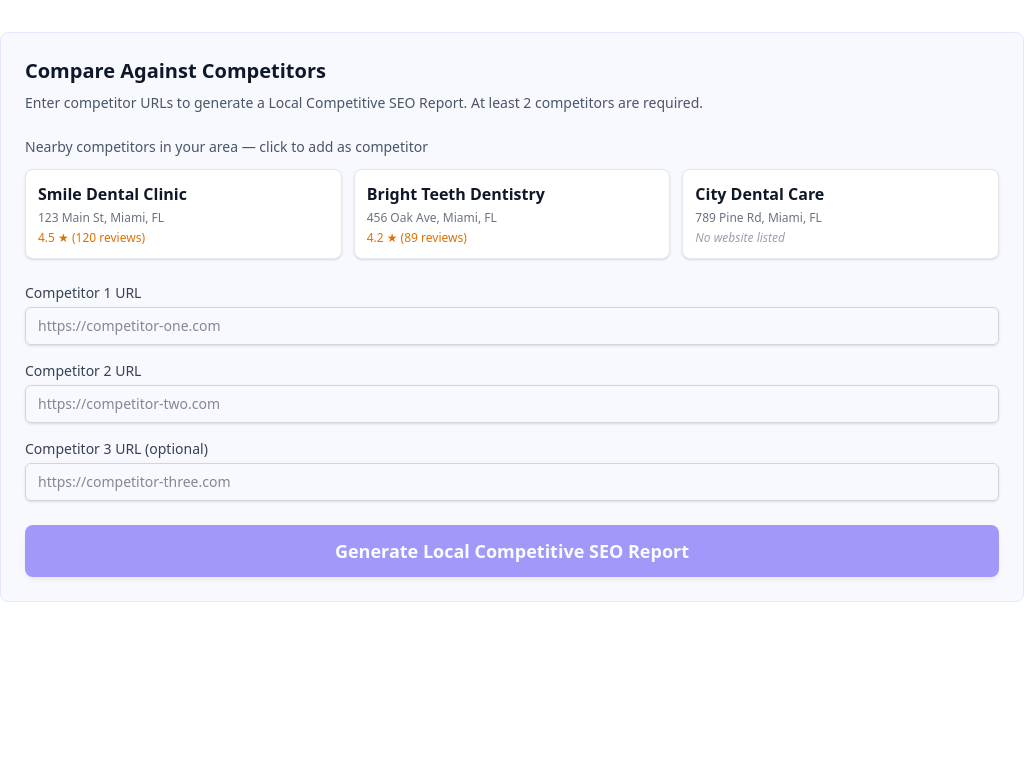
Click Suggestion to Fill URL (CHG-012) › shows "no website" message when clicking a suggestion without website_url
# Click on "City Dental Care" which has no website_url
Step 1. Click the button "City Dental Care" → click(760, 194), box [682,169,999,259]
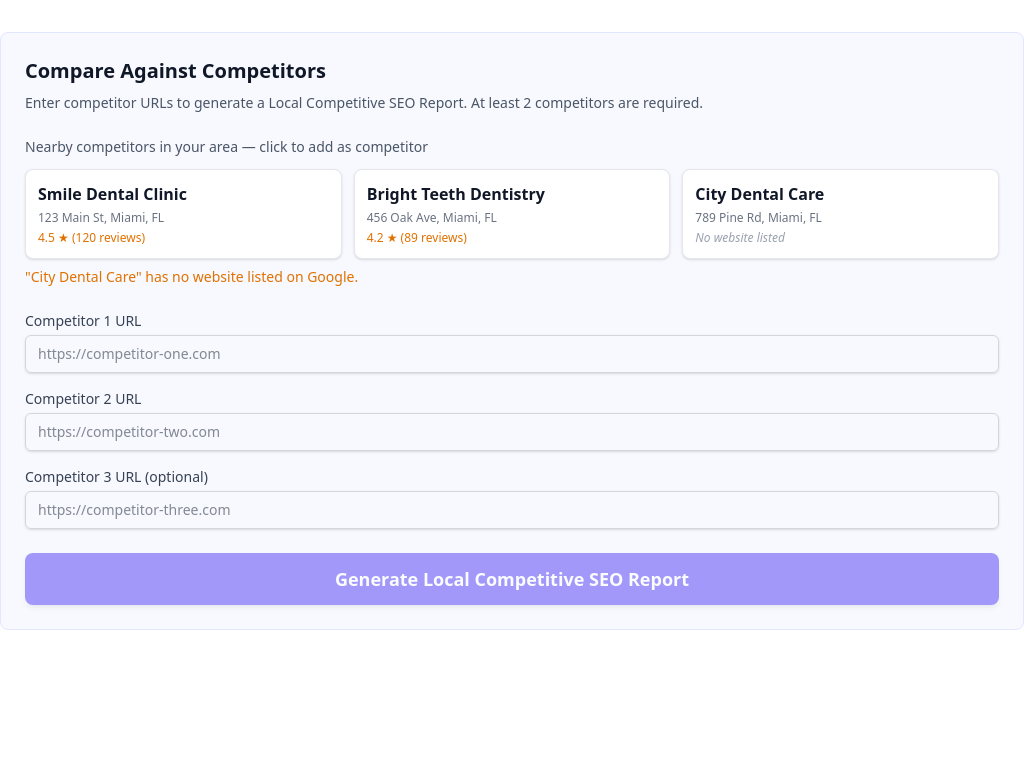
Check: the field labelled "Competitor 1 URL" is empty, box [25,335,999,373]
Check: the text "\"City Dental Care\" has no website listed on Google." is shown, box [25,267,358,286]
